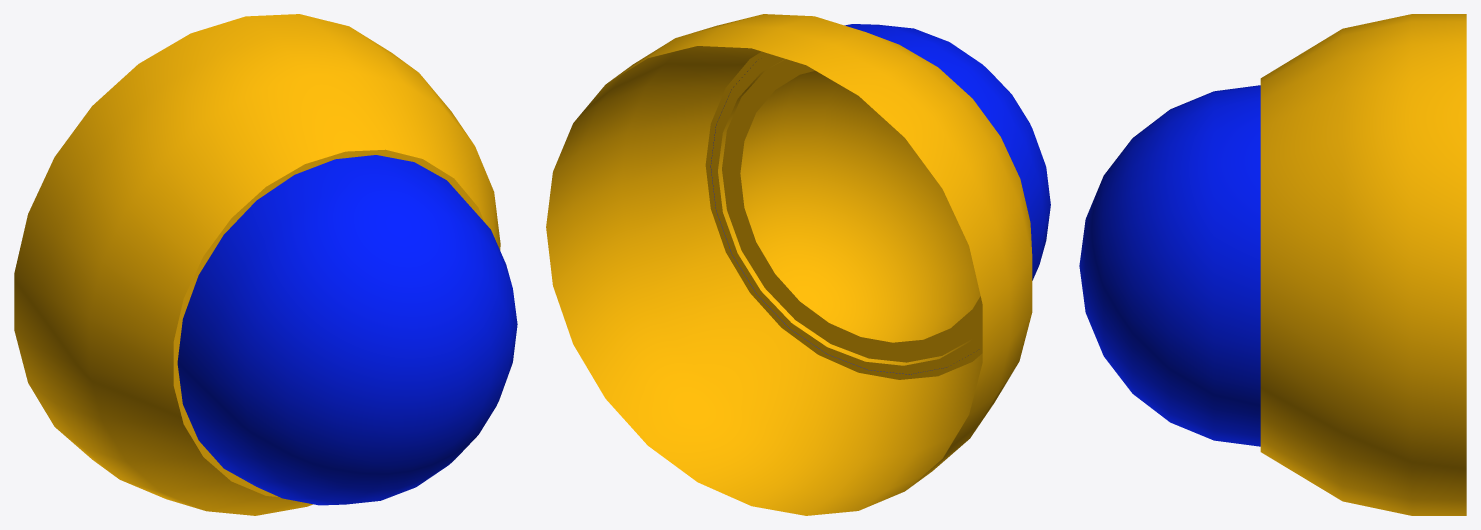
File: SecurityCam.FBX
3 renders of one model, left to right at view 1: azimuth 30°, elevation 25°; view 2: azimuth 150°, elevation 25°; view 3: azimuth 270°, elevation 25°, orthographic.
Visible parts, largest first — view 1: SM_securitycam; view 2: SM_securitycam; view 3: SM_securitycam.
Boxes of the visible parts, x1,y1,x2,y2 form: SM_securitycam: [14, 14, 517, 515]; SM_securitycam: [546, 14, 1050, 515]; SM_securitycam: [1079, 14, 1466, 515].
Size of the model in its own units: 10.7 by 10.72 by 8.26.
